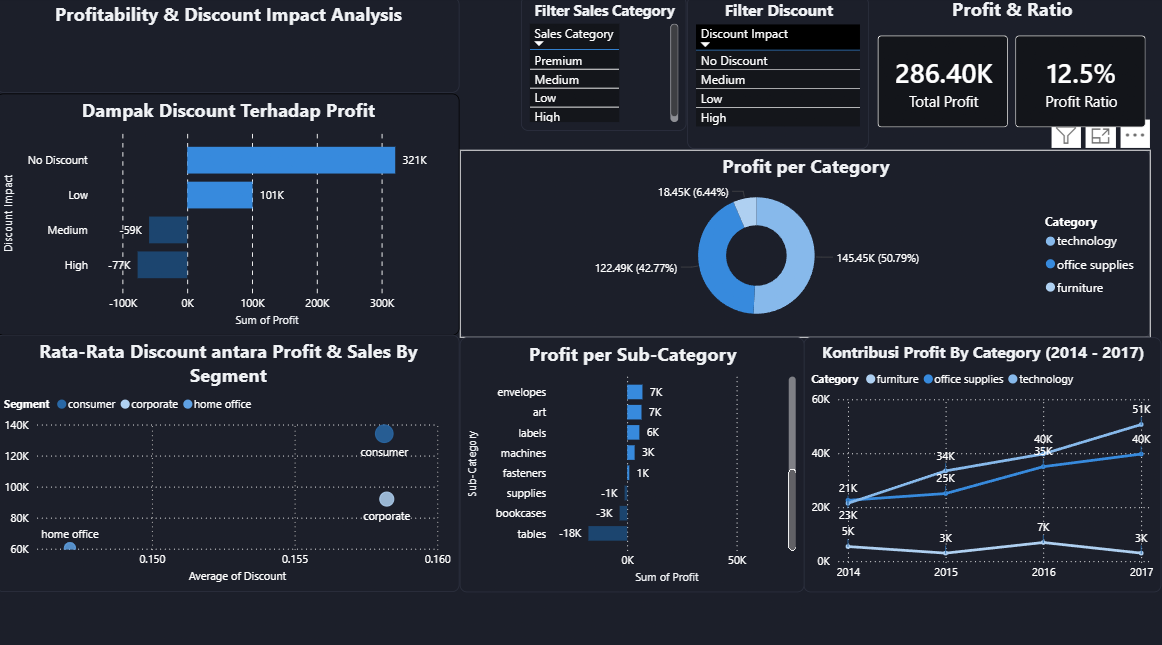

The page's visual inventory and layout, read from the dashboard file:
{"tool":"powerbi","page":{"name":"Dashboard","canvas":[1280,720],"ordinal":0},"visuals":[{"type":"tableEx","title":"Filter Discount","fields":{"Values":["superstore_clean.Discount Impact"]},"box":[758.7,0,199.4,168.3],"z":0},{"type":"tableEx","title":"Filter Sales Category","fields":{"Values":["superstore_clean.Sales Category"]},"box":[576.8,0,181.9,147.8],"z":1000},{"type":"donutChart","title":"Profit per Category","fields":{"Category":["superstore_clean.Category"],"Y":["Sum(superstore_clean.Profit)"]},"box":[508.7,168.3,758.7,206.2],"z":2000},{"type":"clusteredBarChart","title":"Dampak Discount Terhadap Profit","fields":{"Category":["superstore_clean.Discount Impact"],"Y":["Sum(superstore_clean.Profit)"]},"box":[0,107,508.7,265.5],"z":3000},{"type":"scatterChart","title":"Rata-Rata Discount antara Profit & Sales By Segment","fields":{"X":["Avg(superstore_clean.Discount)"],"Y":["Sum(superstore_clean.Profit)"],"Size":["Sum(superstore_clean.Sales)"],"Series":["superstore_clean.Segment"]},"box":[0,372.5,508.7,282.1],"z":4000},{"type":"lineChart","title":"Kontribusi Profit By Category (2014 - 2017)","fields":{"Y":["Sum(superstore_clean.Profit)"],"Series":["superstore_clean.Category"],"Category":["superstore_clean.Order Date.Variation.Date Hierarchy.Year"]},"box":[887.1,374.5,392.9,280.1],"z":5000},{"type":"clusteredBarChart","title":"Profit per Sub-Category","fields":{"Category":["superstore_clean.Sub-Category"],"Y":["Sum(superstore_clean.Profit)"]},"box":[508.7,374.5,378.4,280.1],"z":6000},{"type":"cardVisual","title":"Profit & Ratio","fields":{"Data":["superstore_clean.Total Profit","superstore_clean.Profit Ratio"]},"box":[950.3,0,329.7,161.5],"z":7000},{"type":"textbox","title":"Profitability & Discount Impact Analysis","box":[0,1.9,508.7,105],"z":8000}]}

Visuals, with their boxes in screenshot pixels (x1, y1, x2, y2), scaled from the page's 1280x720 canvas onto the 1162x645 screenshot:
"Filter Discount" tableEx: [689,0,870,151]
"Filter Sales Category" tableEx: [524,0,689,132]
"Profit per Category" donutChart: [462,151,1151,335]
"Dampak Discount Terhadap Profit" clusteredBarChart: [0,96,462,334]
"Rata-Rata Discount antara Profit & Sales By Segment" scatterChart: [0,334,462,586]
"Kontribusi Profit By Category (2014 - 2017)" lineChart: [805,335,1161,586]
"Profit per Sub-Category" clusteredBarChart: [462,335,805,586]
"Profit & Ratio" cardVisual: [863,0,1161,145]
"Profitability & Discount Impact Analysis" textbox: [0,2,462,96]
